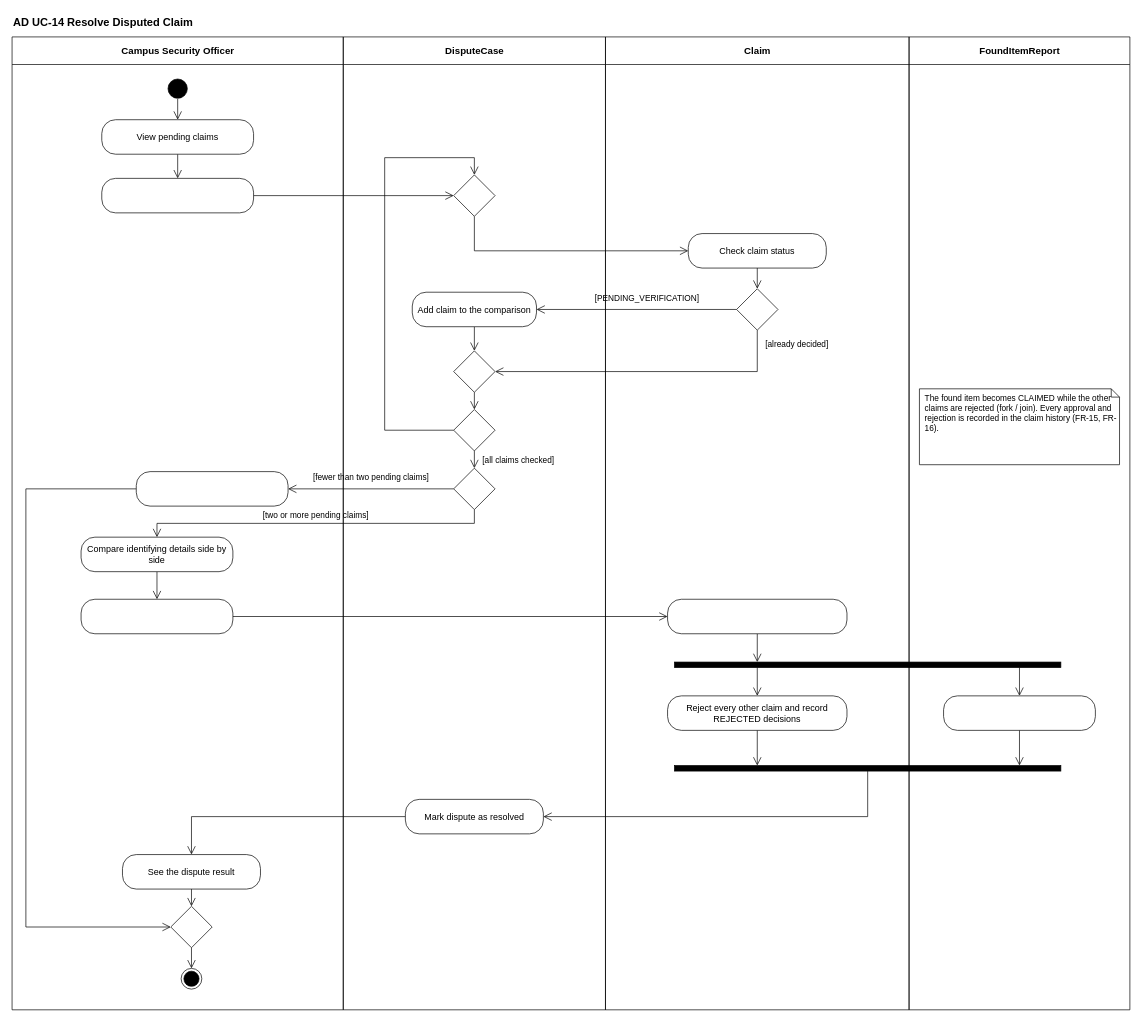
Image size: 1142x1022. Some labels were removed from this diagram. Each missing label, with the centre of its shape:
[more claims]: (x=474, y=430)
Approve winning claim and record APPROVED decision: (x=757, y=616)
Mark found item as CLAIMED: (x=1019, y=712)
Open the dispute for the found item: (x=177, y=195)
See that there is no dispute to resolve: (x=212, y=488)
Select the claim that verifies ownership: (x=156, y=616)
